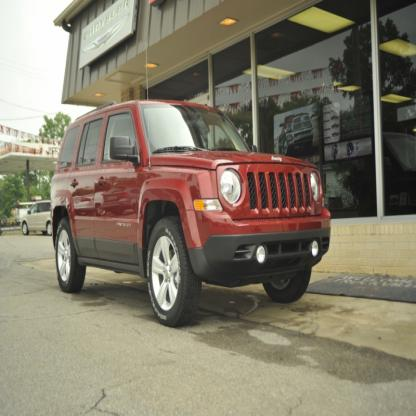Vehicle: (51, 96, 333, 332)
